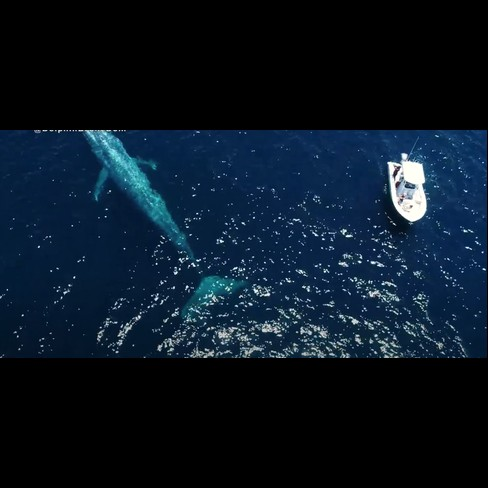bluewhale: (76, 129, 250, 326)
boat: (383, 148, 431, 228)
